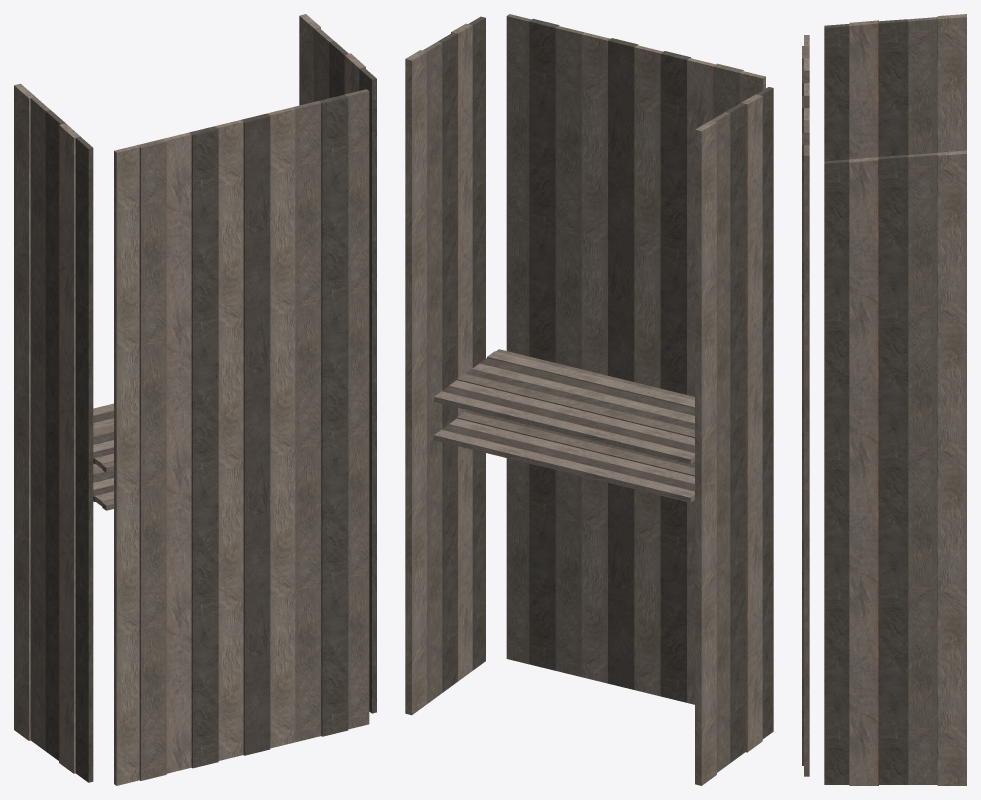
Rendered from OuthouseBackWalls.fbx.
3 renders of one model, left to right at view 1: azimuth 30°, elevation 25°; view 2: azimuth 150°, elevation 25°; view 3: azimuth 270°, elevation 25°, orthographic. The views are drawn at different scales.
Parts seen in each view (by area): view 1: OuthouseBackWalls; view 2: OuthouseBackWalls; view 3: OuthouseBackWalls.
Boxes of the visible parts, x1=… form: OuthouseBackWalls: x1=14, y1=14, x2=376, y2=785; OuthouseBackWalls: x1=405, y1=14, x2=773, y2=785; OuthouseBackWalls: x1=802, y1=14, x2=966, y2=785.
Size of the model in its own units: 360 by 760 by 180.
